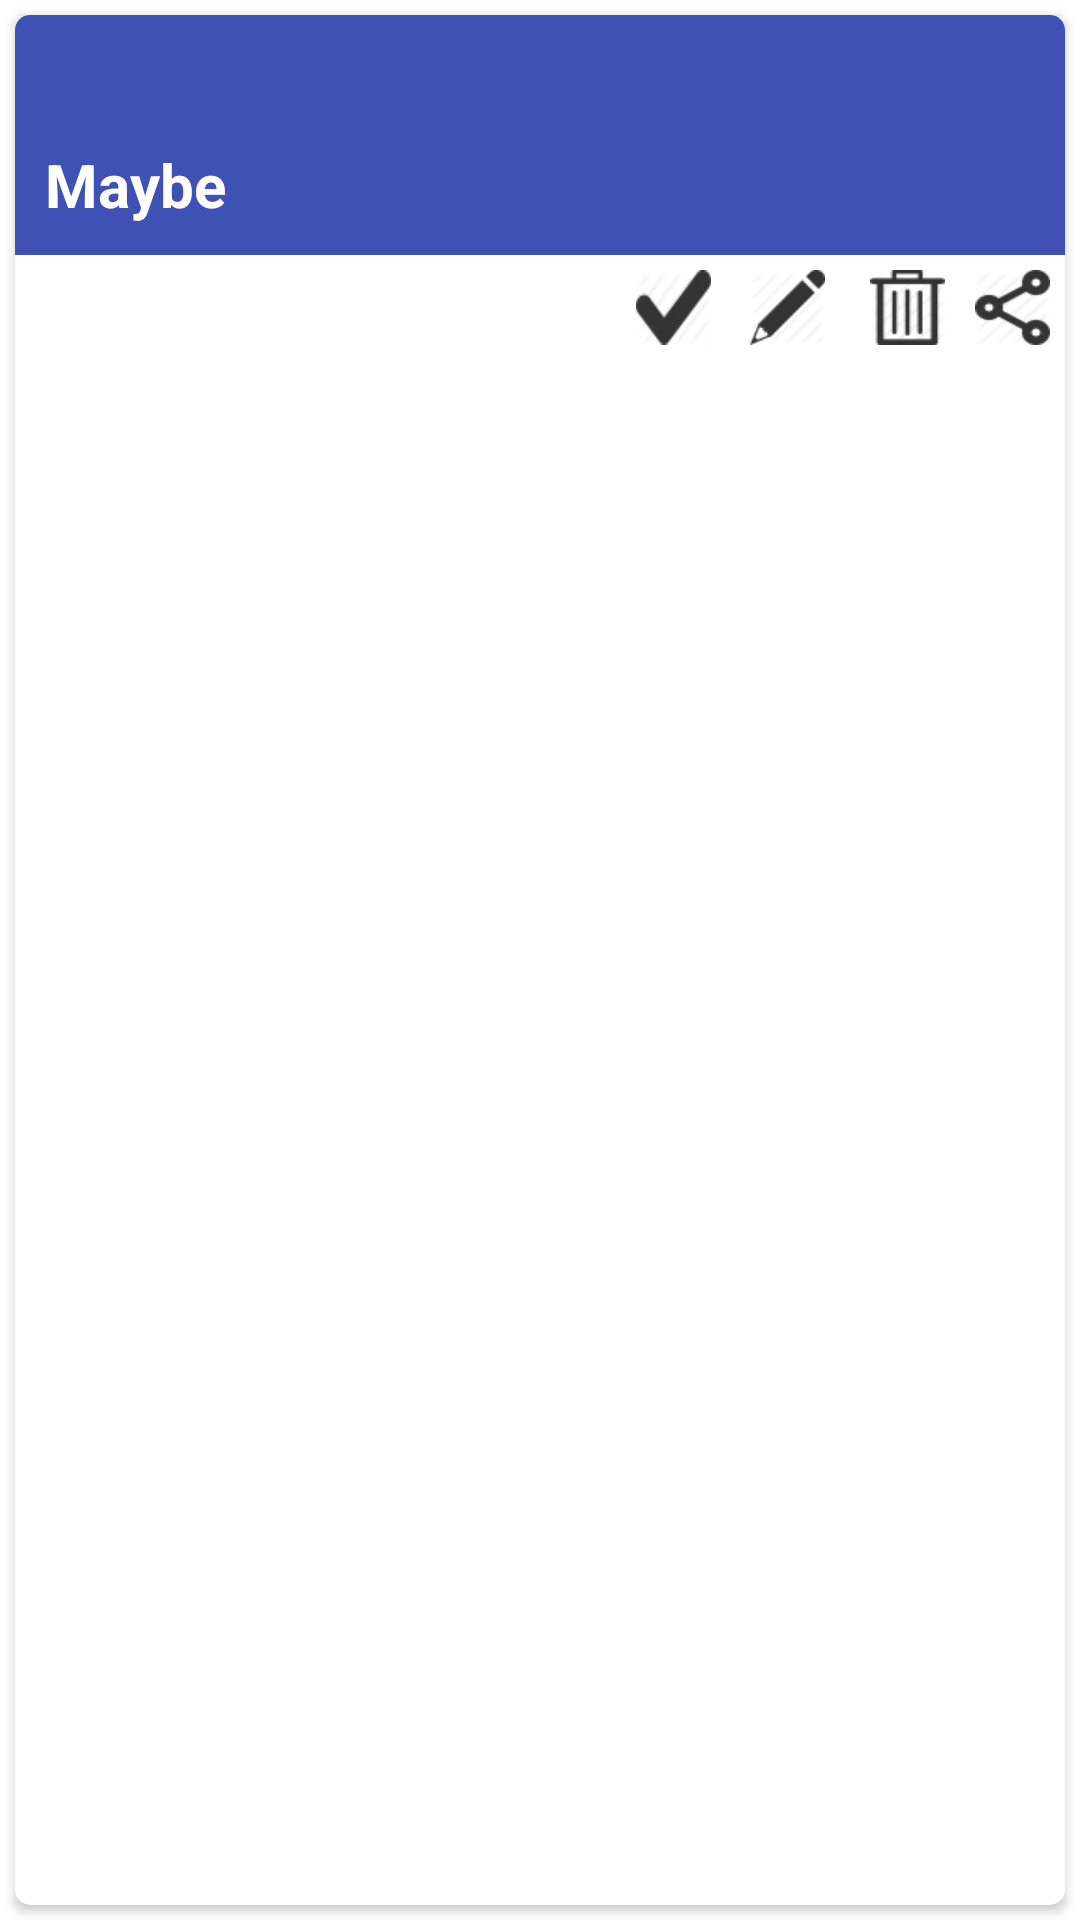

Screen size 1080px x 1920px. Icon name, then its box in pixels as box(x1, y1, x2, y2):
carddefault: box(636, 270, 711, 345)
carddelete: box(870, 270, 945, 345)
cardedit: box(750, 270, 825, 345)
cardshare: box(975, 270, 1050, 345)
